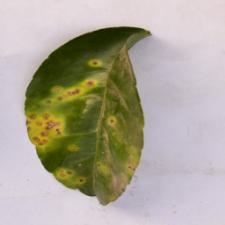Canker: (14, 36, 144, 202)
